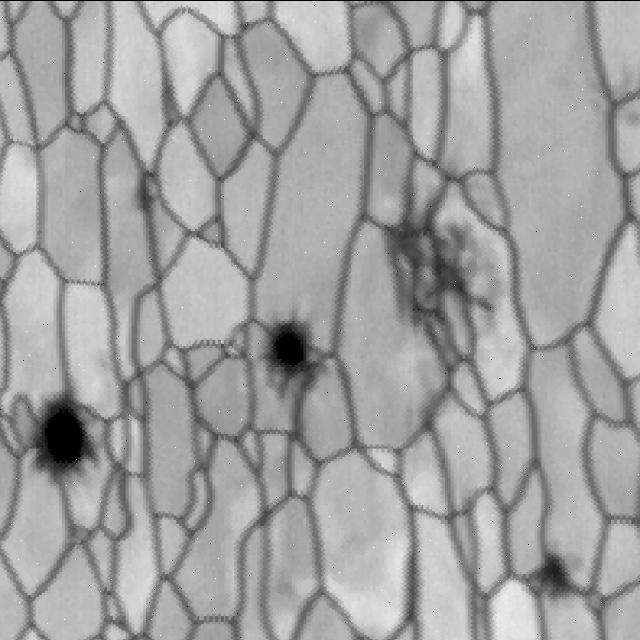good_void: (375, 191, 505, 390), (26, 366, 109, 500), (511, 542, 595, 611), (261, 303, 315, 391), (124, 140, 167, 237)
